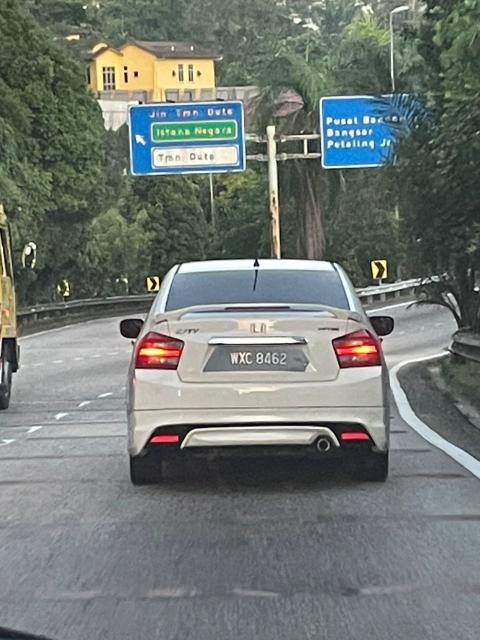License_Plate: (219, 347, 299, 372)
car: (111, 253, 396, 479)
